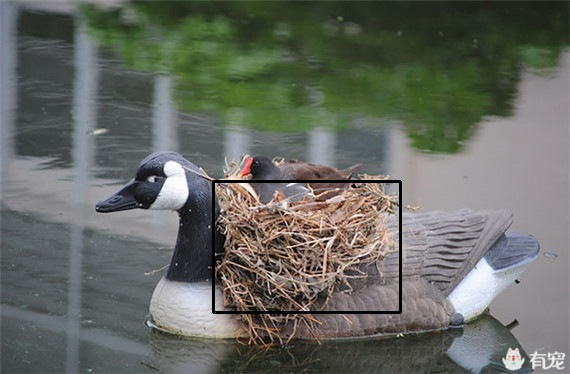bird-nest: (213, 161, 399, 353)
